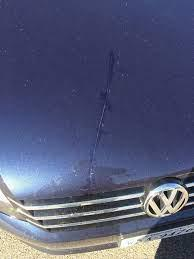bonnet-dent: (0, 3, 193, 230)
